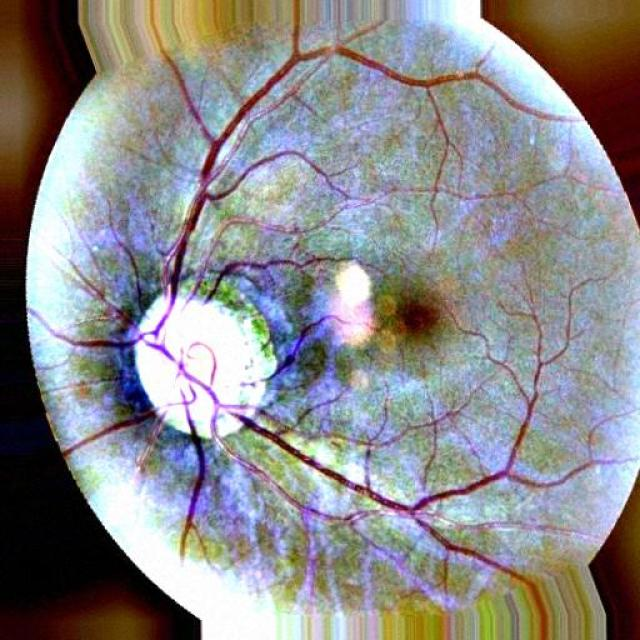Macula: (392, 298, 440, 341)
Nerves: (29, 0, 628, 582), (180, 219, 309, 308), (201, 250, 352, 302)
Optic Disk: (135, 292, 264, 438)
